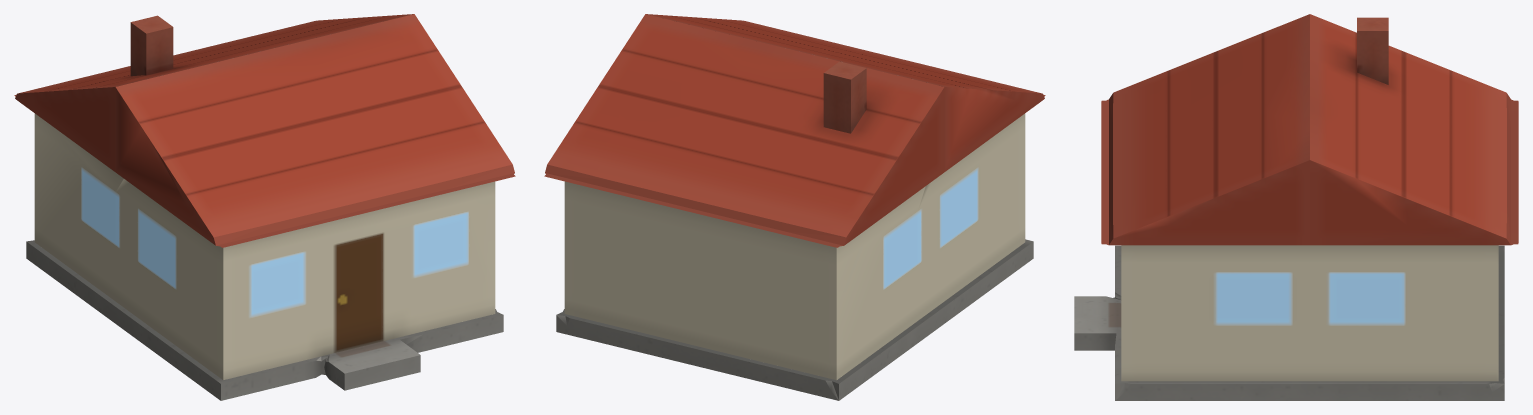
The model's file is house_edits.mid.glb.
3 renders of one model, left to right at view 1: azimuth 30°, elevation 25°; view 2: azimuth 150°, elevation 25°; view 3: azimuth 270°, elevation 25°, orthographic.
Parts seen in each view (by area): view 1: house_edits; view 2: house_edits; view 3: house_edits.
Boxes of the visible parts, <box> form: house_edits: <box>14,14,515,400</box>; house_edits: <box>544,14,1045,400</box>; house_edits: <box>1074,14,1518,400</box>.
Size of the model in its own units: 5.5 by 4.7 by 7.07.
1 material, 1 textured.
